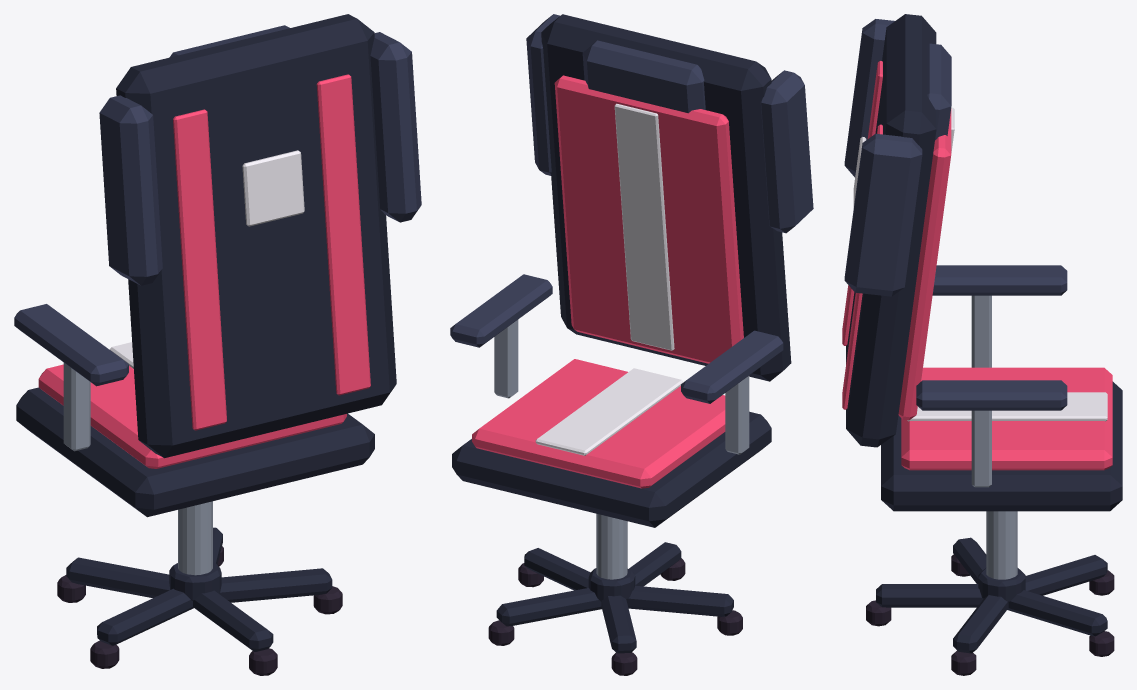
The model's file is chair.glb.
3 views of the same model, side by side, from view 1: azimuth 30°, elevation 25°; view 2: azimuth 150°, elevation 25°; view 3: azimuth 270°, elevation 25° (orthographic). The views are drawn at different scales.
Parts seen in each view (by area): view 1: pc_chair; view 2: pc_chair; view 3: pc_chair.
Part boxes in pixels (x1,y1,x2,y2): pc_chair: (14,14,421,675); pc_chair: (450,14,813,675); pc_chair: (842,14,1122,675).
Bounding box in the file's own units: 0.62 × 1.23 × 0.5574.
